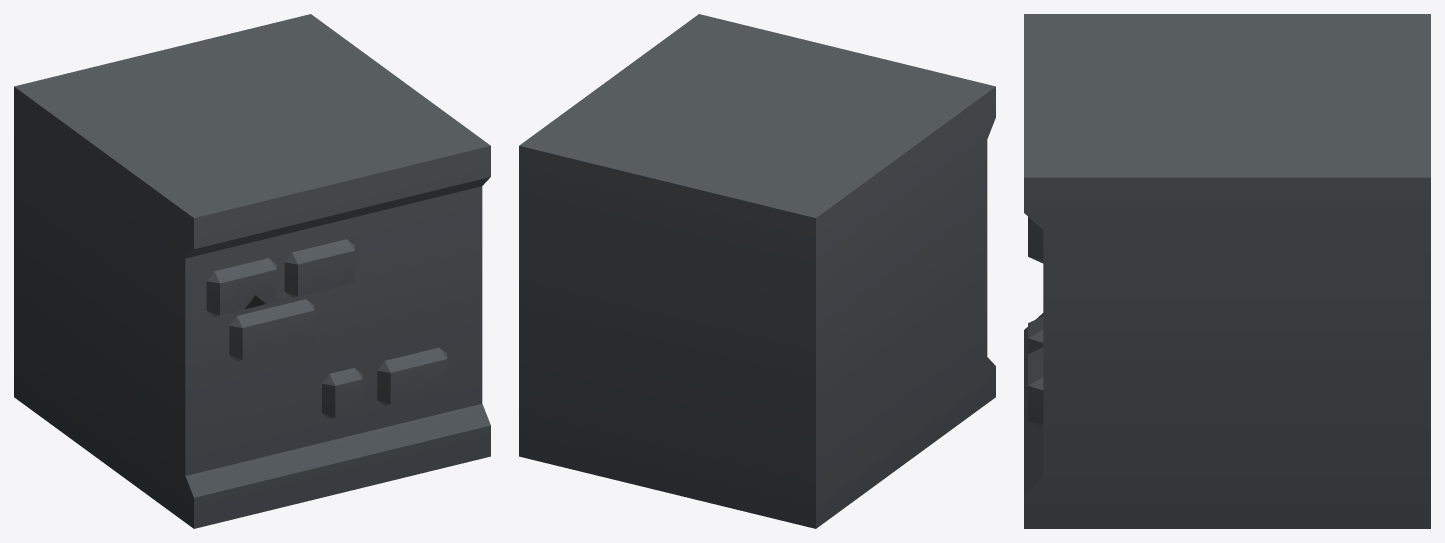
The model's file is floor_foundation_front.glb.
3 renders of one model, left to right at view 1: azimuth 30°, elevation 25°; view 2: azimuth 150°, elevation 25°; view 3: azimuth 270°, elevation 25°, orthographic. The views are drawn at different scales.
Parts seen in each view (by area): view 1: floor_foundation_front; view 2: floor_foundation_front; view 3: floor_foundation_front.
Boxes of the visible parts, x1,y1,x2,y2 form: floor_foundation_front: [14, 14, 490, 528]; floor_foundation_front: [519, 14, 995, 528]; floor_foundation_front: [1024, 14, 1430, 528].
Size of the model in its own units: 2 by 2 by 2.1.
Materials: 1 (1 with a texture image).
